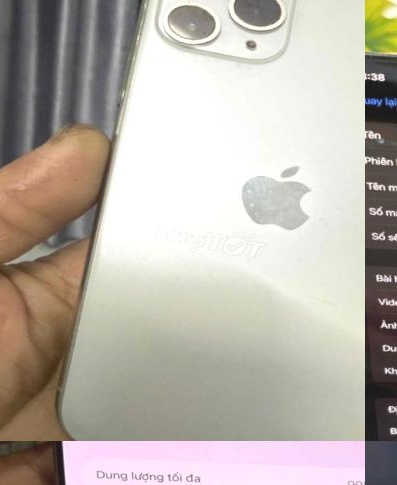scratch: (148, 133, 365, 264), (109, 0, 178, 130), (45, 302, 96, 399)
